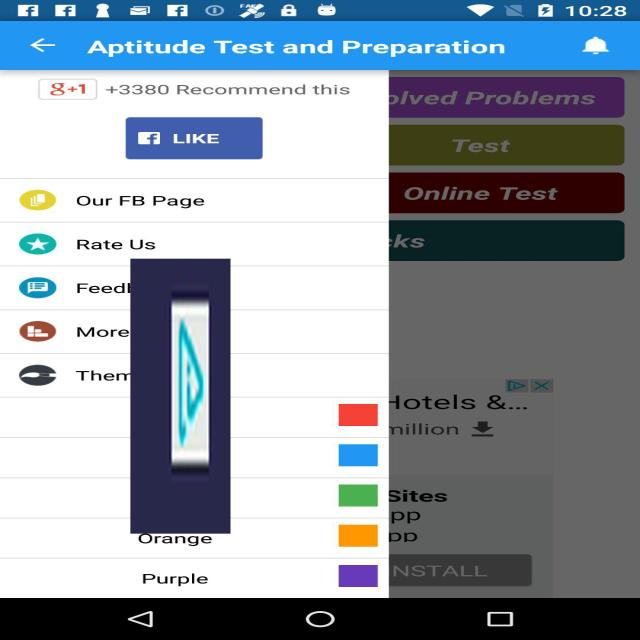sneaking: (130, 258, 230, 534)
